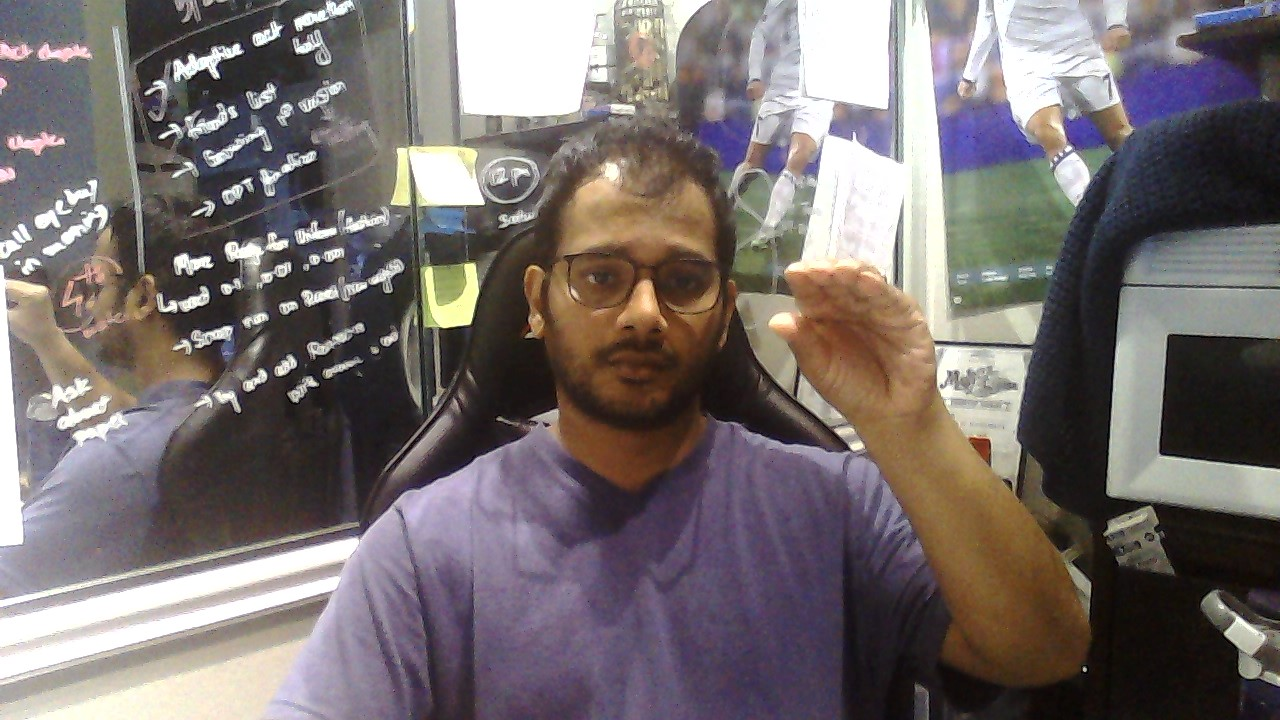No: (767, 259, 937, 412)
